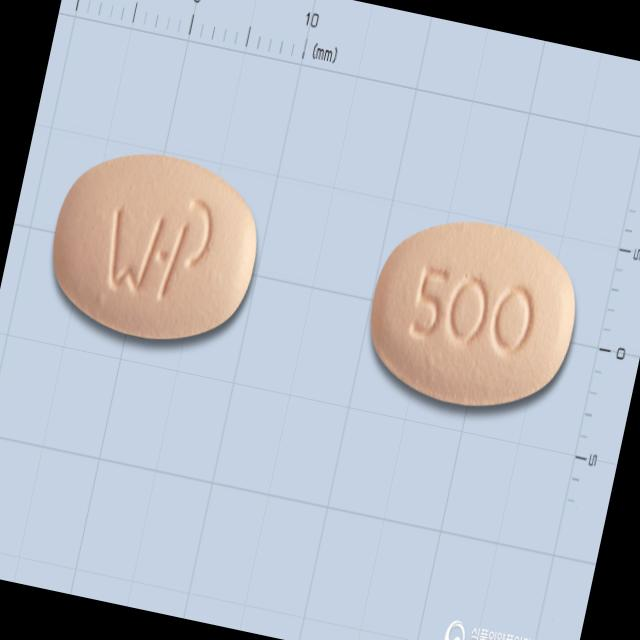Highloxin: (36, 134, 274, 358), (354, 200, 592, 423)
